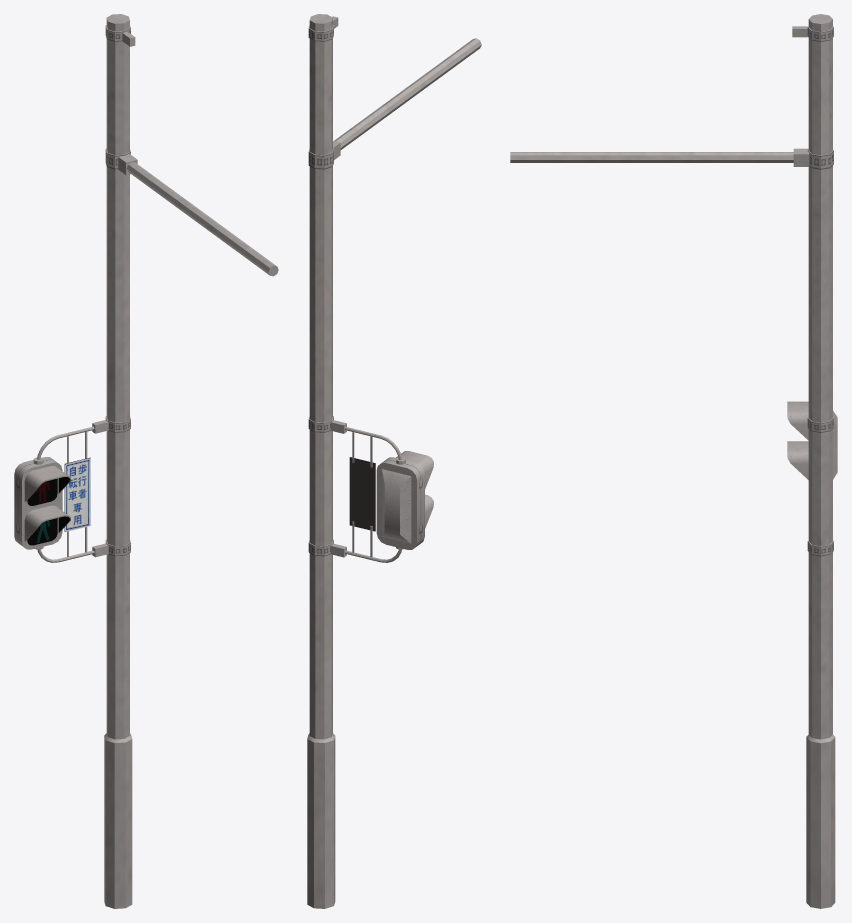
The model's file is signal03.fbx.
The picture shows the model from 3 angles, left to right: view 1: azimuth 30°, elevation 25°; view 2: azimuth 150°, elevation 25°; view 3: azimuth 270°, elevation 25°; orthographic projection.
Visible parts, largest first — view 1: Pole, signal, hyoushiki, arm; view 2: Pole, signal, hyoushiki, arm; view 3: Pole, signal.
Part boxes in pixels (x1,y1,x2,y2): Pole: (104,14,278,908); signal: (14,457,70,549); hyoushiki: (64,457,90,531); arm: (37,420,108,562); Pole: (307,14,481,908); signal: (376,451,433,549); hyoushiki: (349,457,375,531); arm: (330,420,401,562); Pole: (510,14,835,908); signal: (787,401,837,479).
Bounding box in the file's own units: 0.8501 × 6.38 × 2.14.
